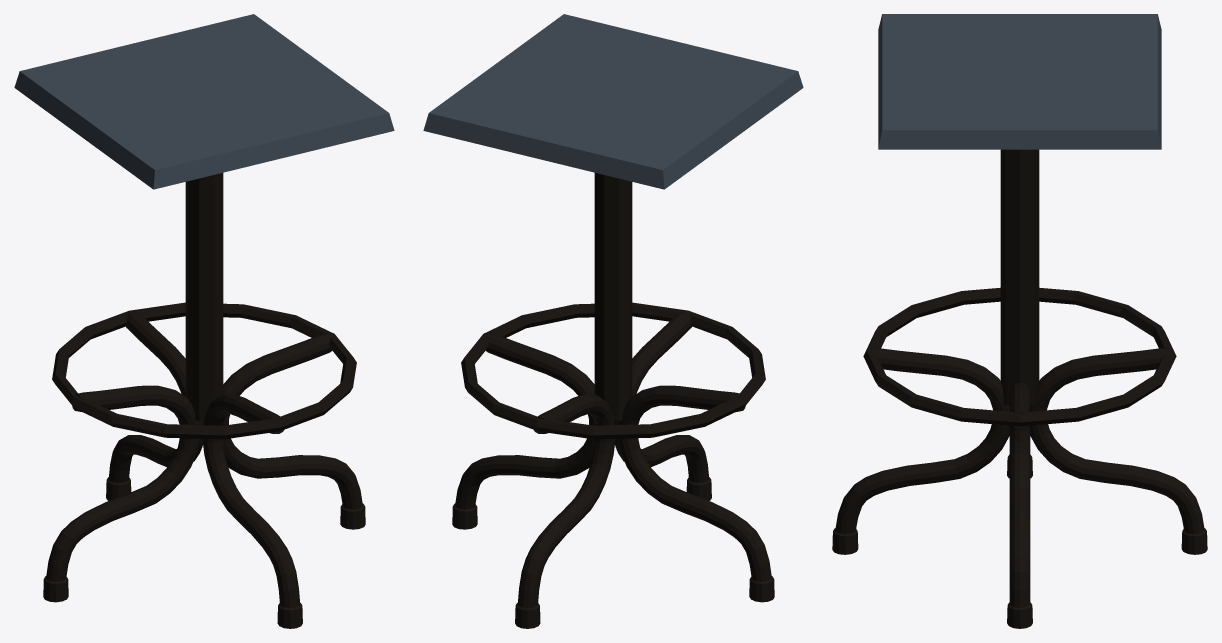
The model's file is Silla.fbx.
3 views of the same model, side by side, from view 1: azimuth 30°, elevation 25°; view 2: azimuth 150°, elevation 25°; view 3: azimuth 270°, elevation 25° (orthographic).
Visible parts, largest first — view 1: BézierCurve.012; view 2: BézierCurve.012; view 3: BézierCurve.012.
Part boxes in pixels (box(x1,y1,x2,y2)): BézierCurve.012: box(14, 14, 394, 628); BézierCurve.012: box(423, 14, 803, 628); BézierCurve.012: box(832, 14, 1207, 628).
Bounding box in the file's own units: 24.5 × 34.42 × 24.5.
